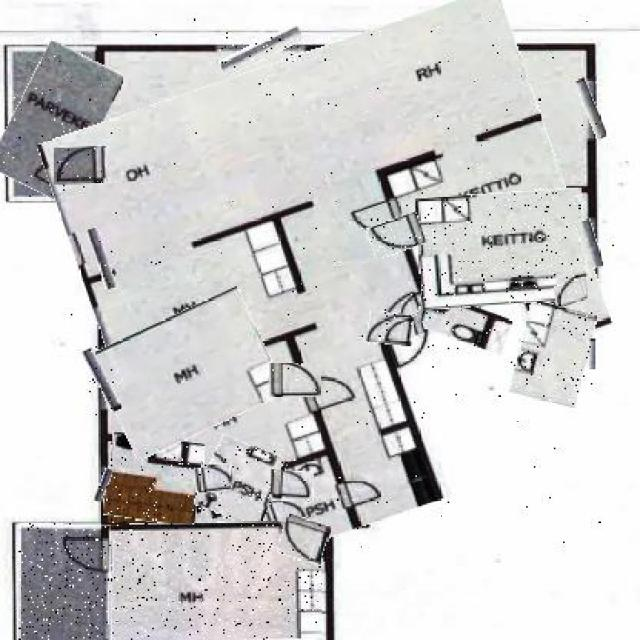door: (369, 214, 425, 255), (280, 517, 329, 561), (55, 148, 111, 185), (269, 363, 320, 397), (366, 312, 414, 346), (271, 472, 314, 500), (195, 466, 231, 492), (389, 315, 425, 340), (554, 282, 586, 306)
window: (219, 32, 303, 68), (90, 346, 116, 414), (580, 77, 602, 140), (91, 226, 111, 289), (578, 220, 600, 269), (96, 468, 110, 502), (588, 338, 595, 369)
zone: (69, 19, 617, 552), (99, 302, 278, 446), (109, 521, 321, 640), (417, 190, 586, 308), (0, 46, 111, 197), (19, 523, 110, 640), (106, 436, 202, 524), (516, 303, 592, 405), (200, 440, 283, 526), (415, 297, 511, 349)
